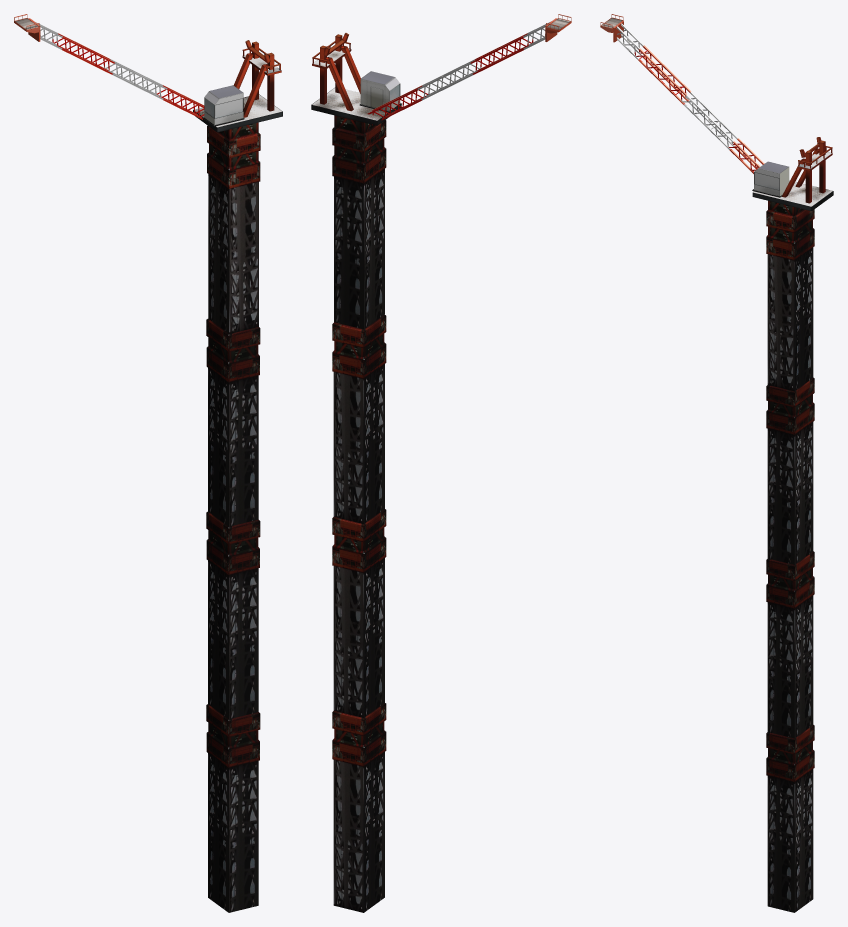
File: kure-ndodai1f1.obj
3 views of the same model, side by side, from view 1: azimuth 30°, elevation 25°; view 2: azimuth 150°, elevation 25°; view 3: azimuth 330°, elevation 25° (orthographic). The views are drawn at different scales.
Size of the model in its own units: 47.64 by 172 by 8.33.
Materials: 3 (3 with a texture image).
